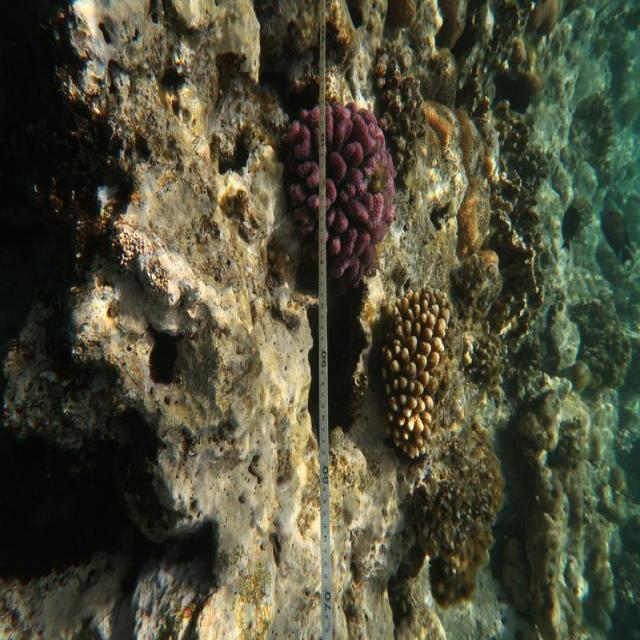Healthy Coral: (278, 97, 405, 284), (348, 276, 463, 447)
